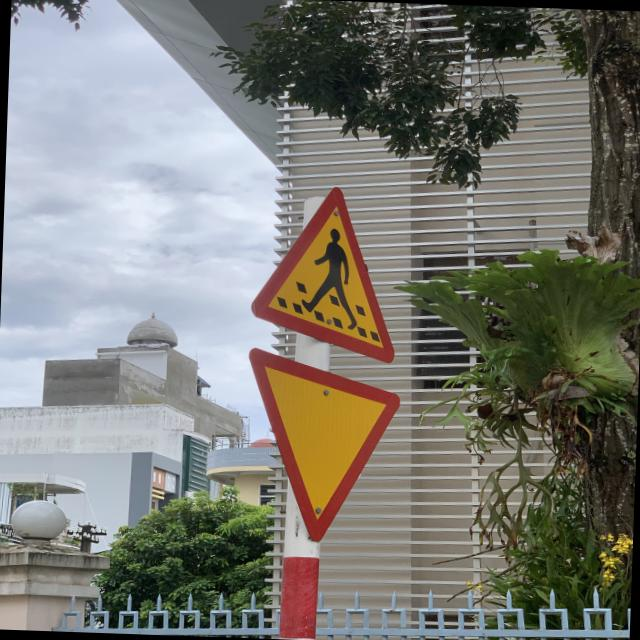Duong_Nguoi_Di_Bo_Sang_Ngang: (250, 184, 400, 362)
Gioi_Han_Toc_Do_25: (242, 346, 401, 544)
